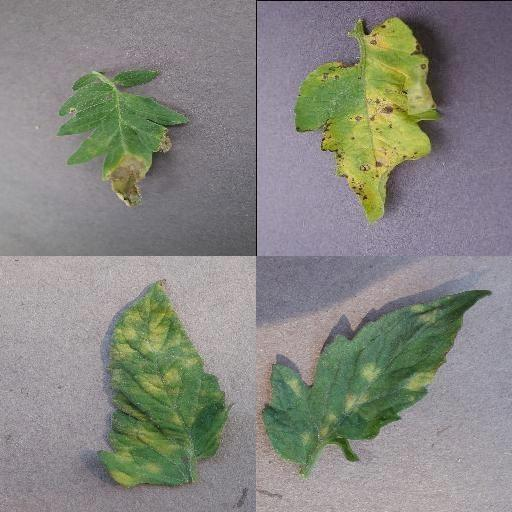Late Blight: (57, 68, 189, 210)
Leaf Mold: (264, 289, 490, 465), (98, 278, 234, 488)
Septoria: (295, 13, 443, 225)
